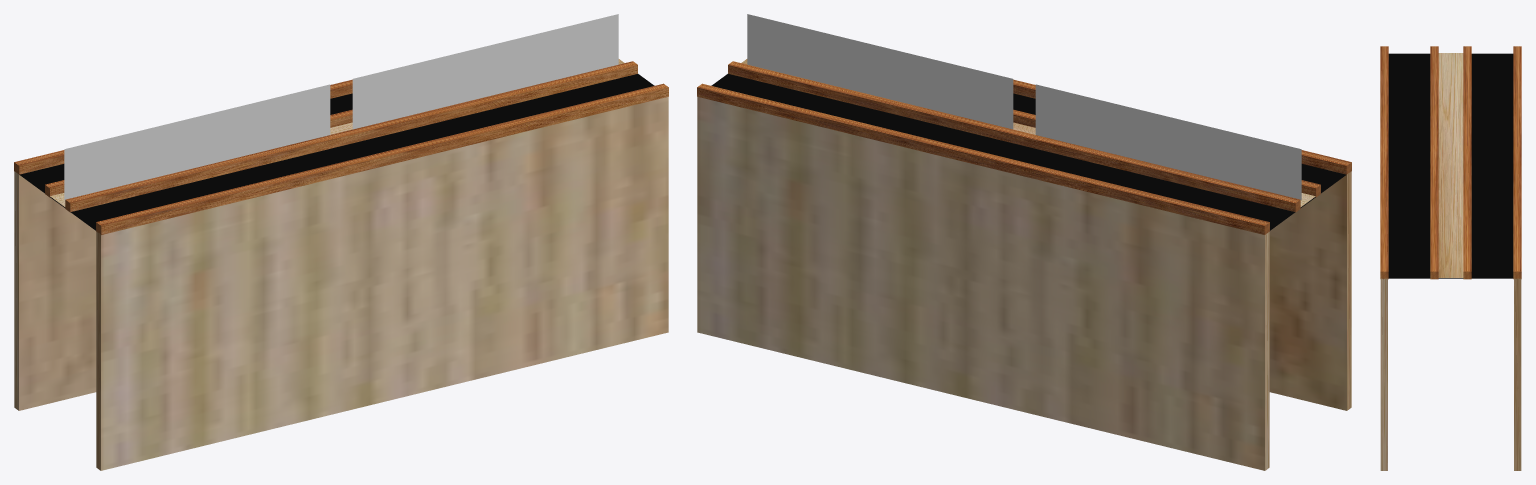
File: sushi_stand.fbx
3 views of the same model, side by side, from view 1: azimuth 30°, elevation 25°; view 2: azimuth 150°, elevation 25°; view 3: azimuth 270°, elevation 25° (orthographic). The views are drawn at different scales.
Visible parts, largest first — view 1: sushi_stand; view 2: sushi_stand; view 3: sushi_stand.
Boxes of the visible parts, x1,y1,x2,y2 form: sushi_stand: (14, 14, 668, 470); sushi_stand: (697, 14, 1351, 470); sushi_stand: (1380, 46, 1521, 470).
Size of the model in its own units: 12800 by 6215 by 3400.
